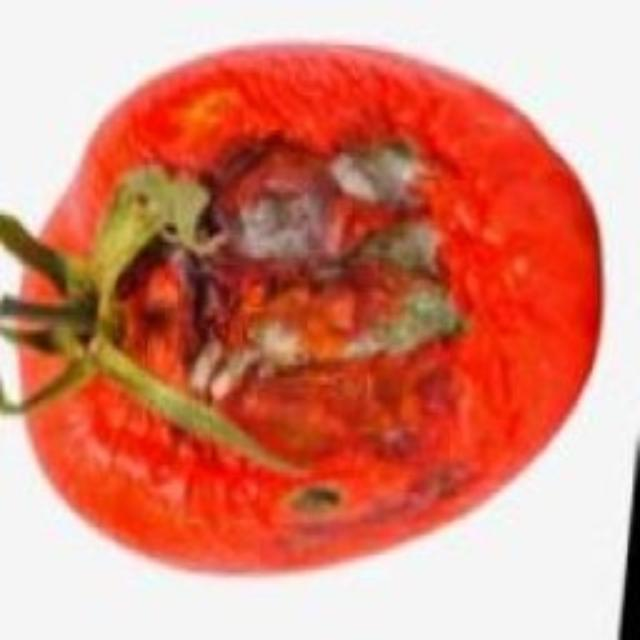defect: (9, 36, 600, 583)
